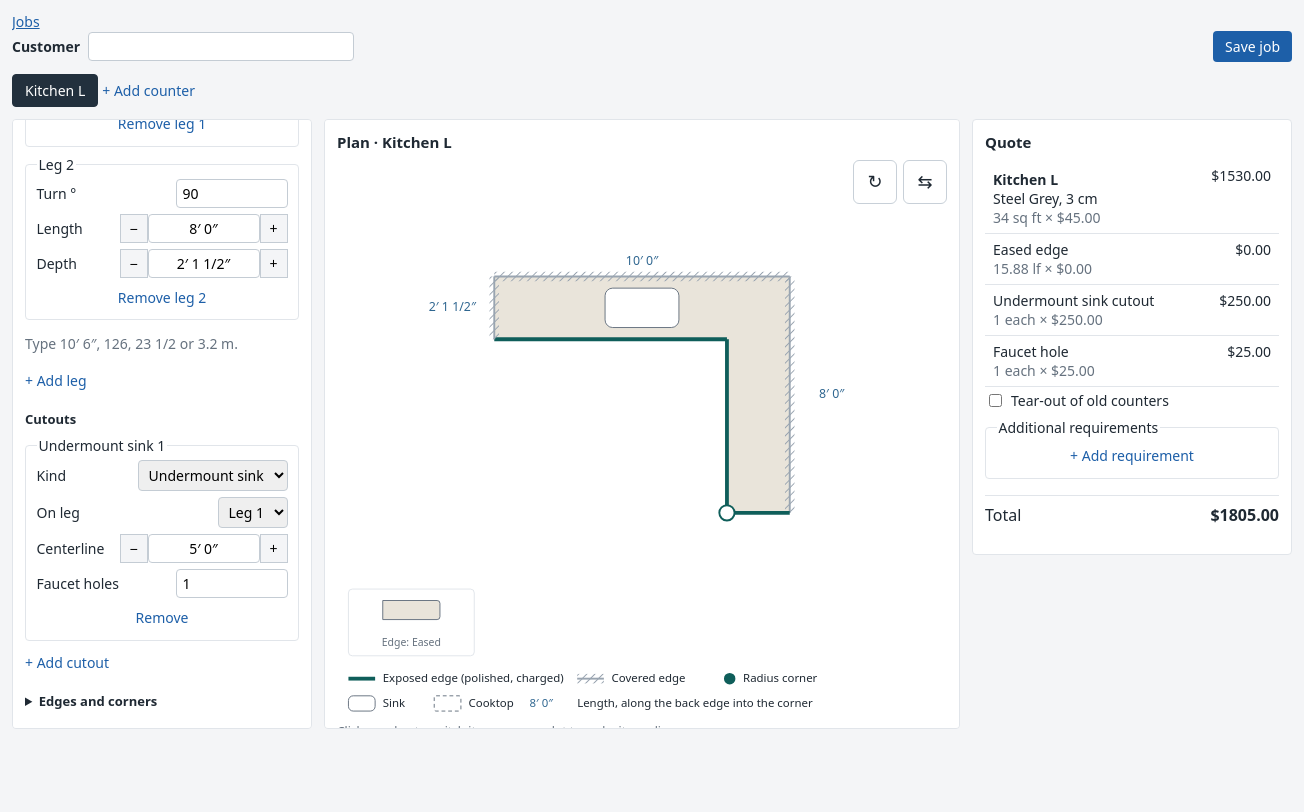
Test case: editing a counter › adds, changes, moves and removes cutouts
The width and height of the screenshot is (1304, 812).
Later steps or results of the test are not shown.
(page scrolled)
Expected: the tab "Kitchen L" is shown, [12, 74, 98, 107]
Step 1. Click the button "+ Add cutout" → (67, 662), box [25, 649, 109, 676]
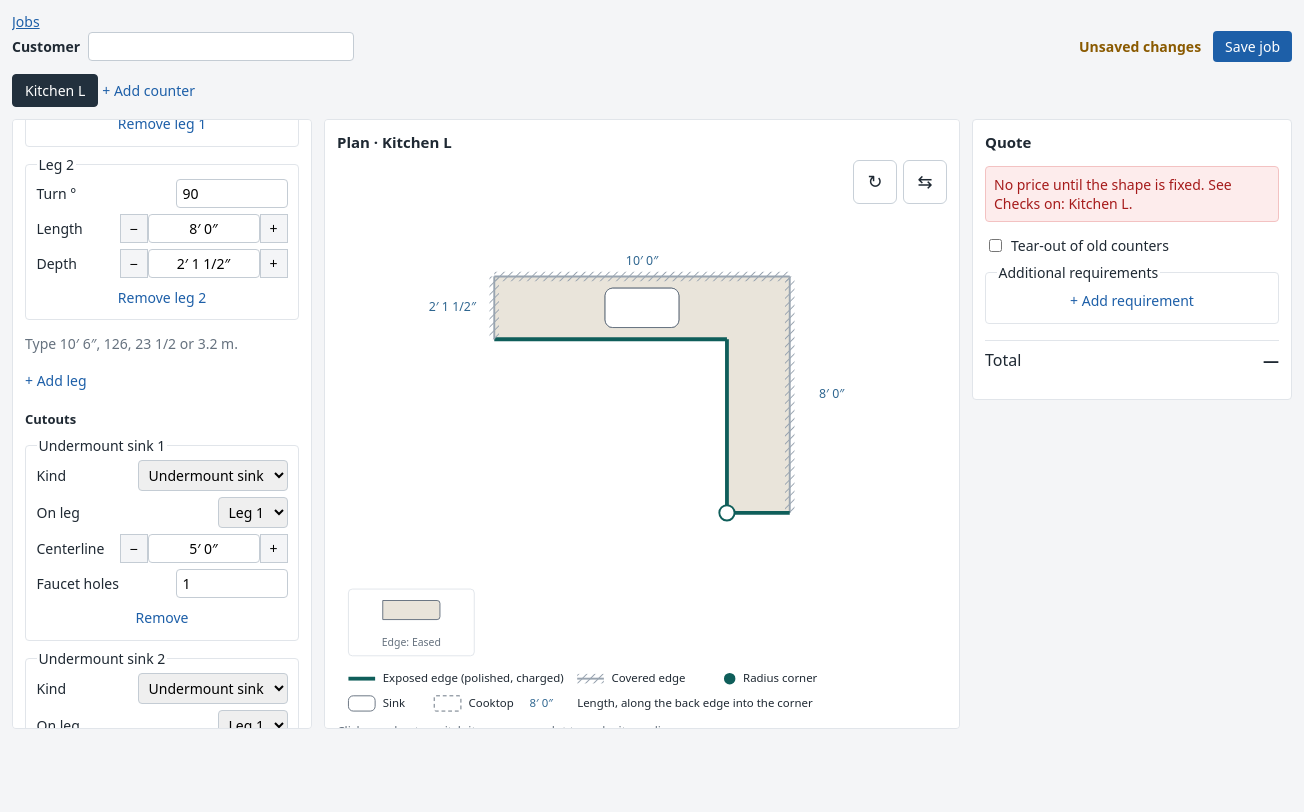
Now the text "Undermount sink 2" is shown, box [36, 649, 167, 668]
Step 2. Select "Cooktop" in the 2nd dropdown labelled "Kind" → (212, 688), box [138, 673, 288, 704]
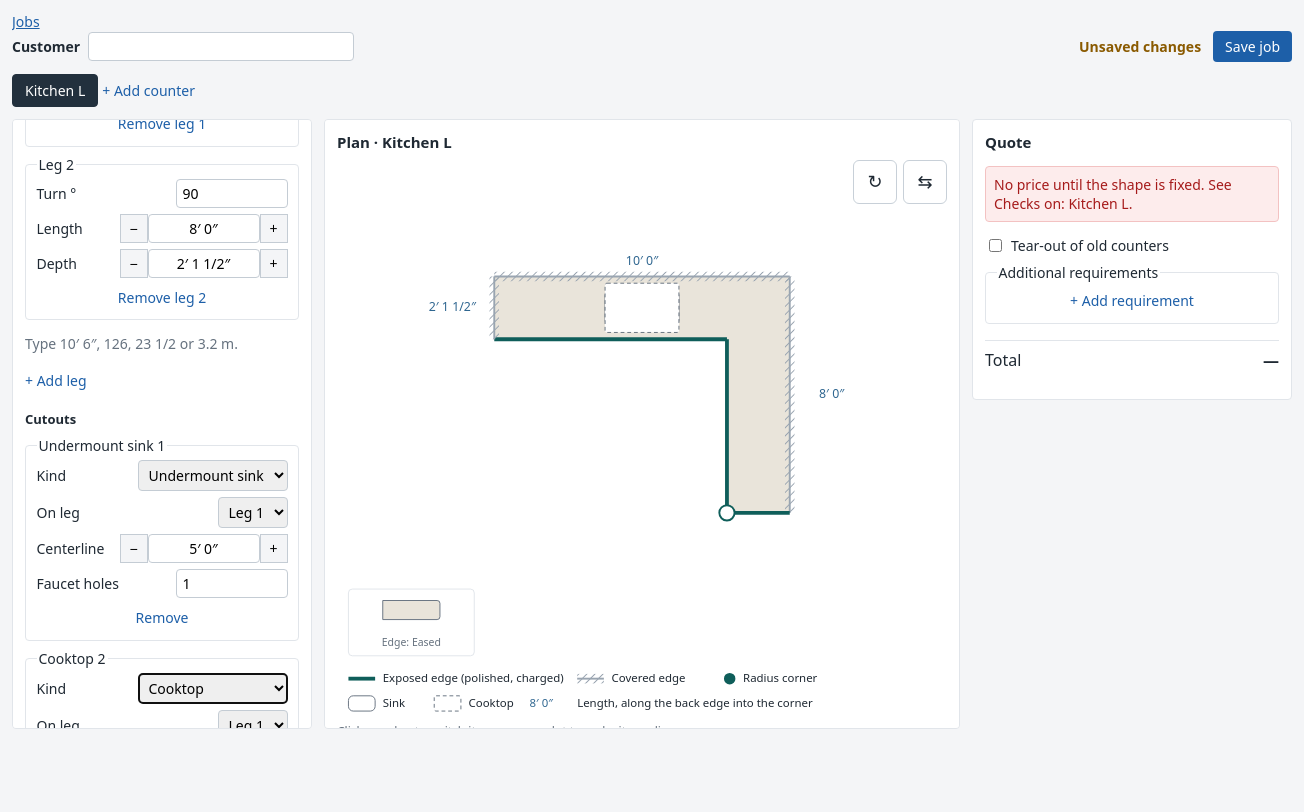
Step 3. Select "Leg 2" in the 2nd dropdown labelled "On leg" → (252, 725), box [218, 710, 288, 741]
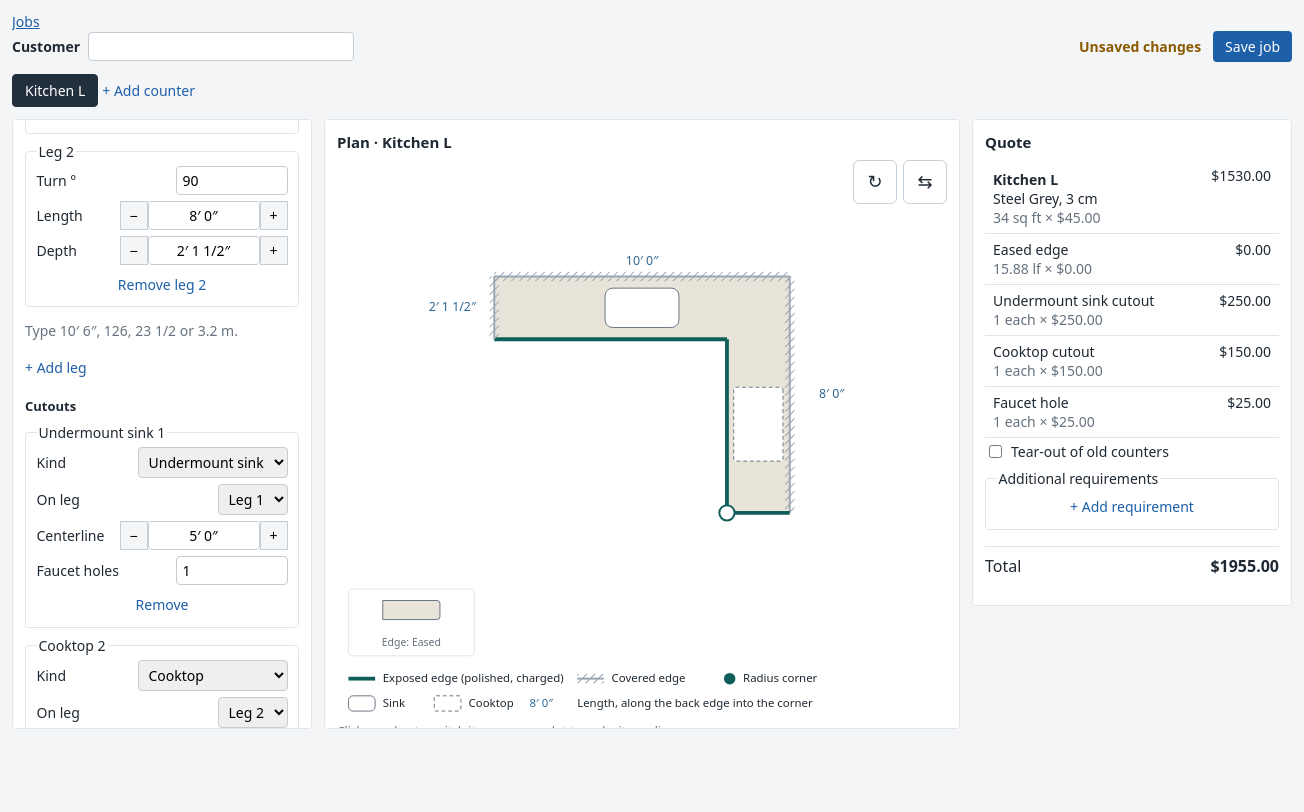
Step 4. Replace the text in the number field labelled "Faucet holes" with "3" → (232, 571), box [176, 556, 288, 585]
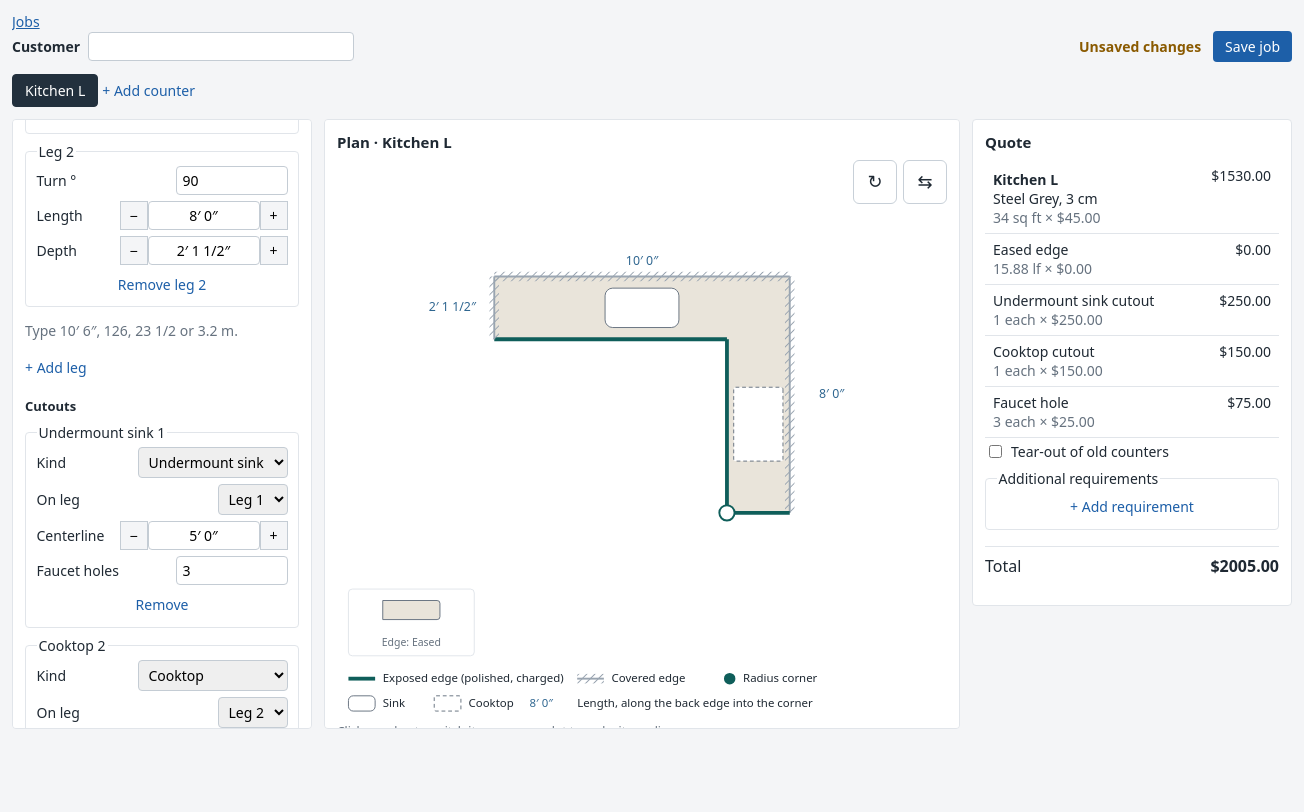
Now the text "Faucet hole" is shown, box [993, 393, 1069, 412]
